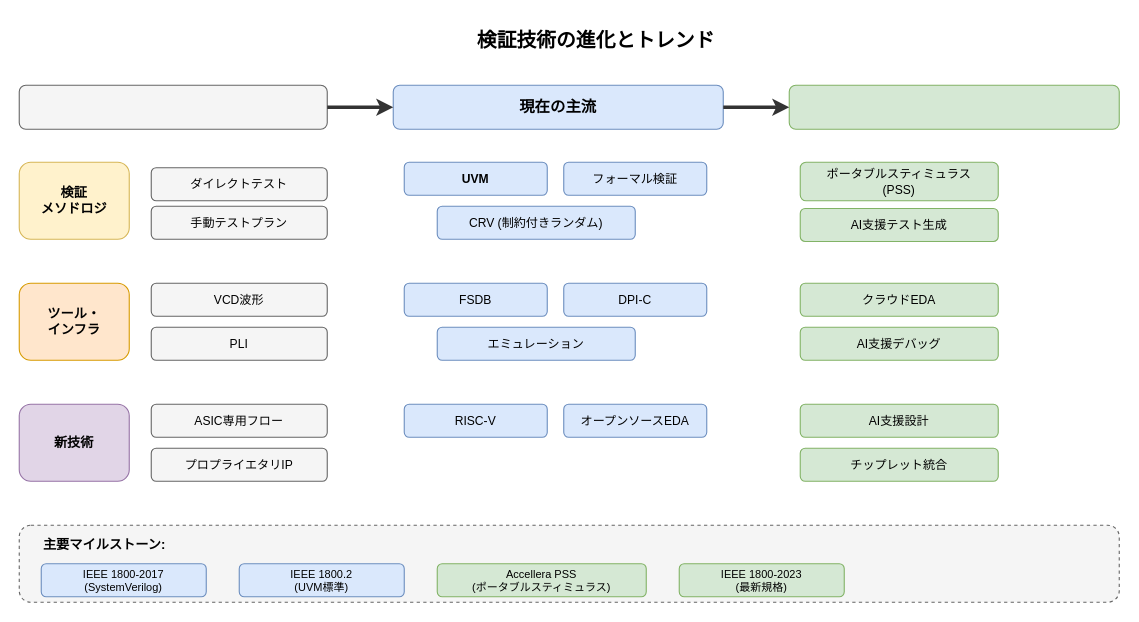
This 1139x622 diagram has some shape labels left out. Here are the shapes that lost their labels. From the top down, the box of each, then its label:
(18, 84, 327, 129): 従来の技術
(788, 84, 1119, 129): 今後のトレンド
